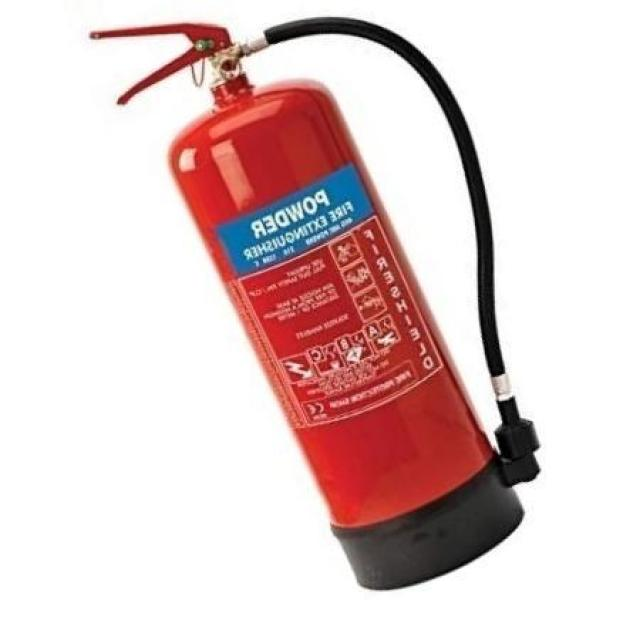fire_extinguisher: (83, 12, 544, 595)
